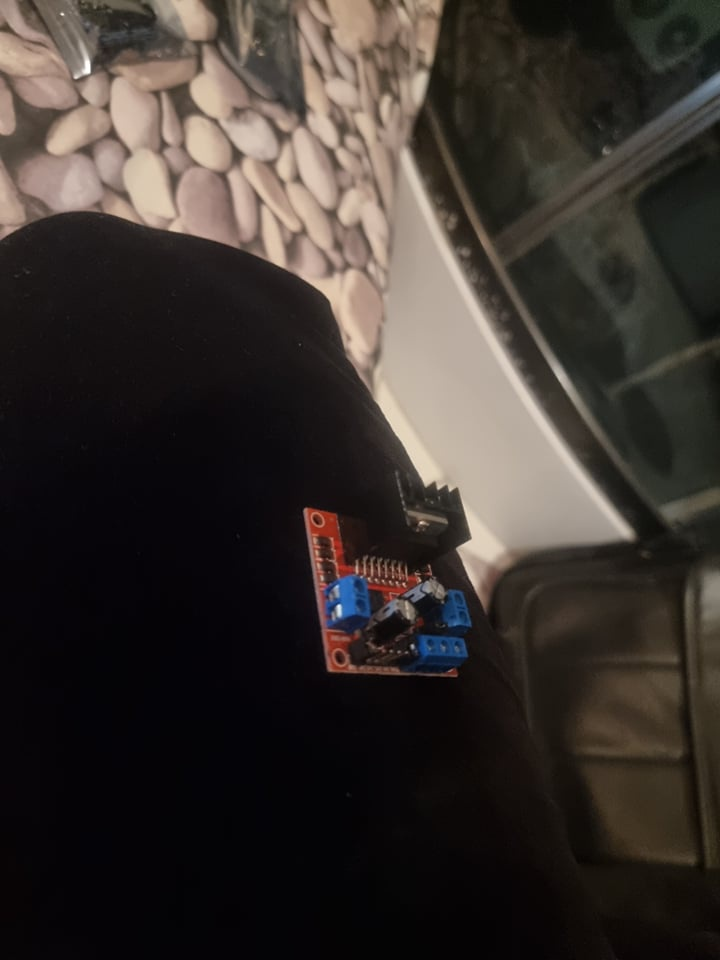MOTOR: (301, 470, 477, 679)
